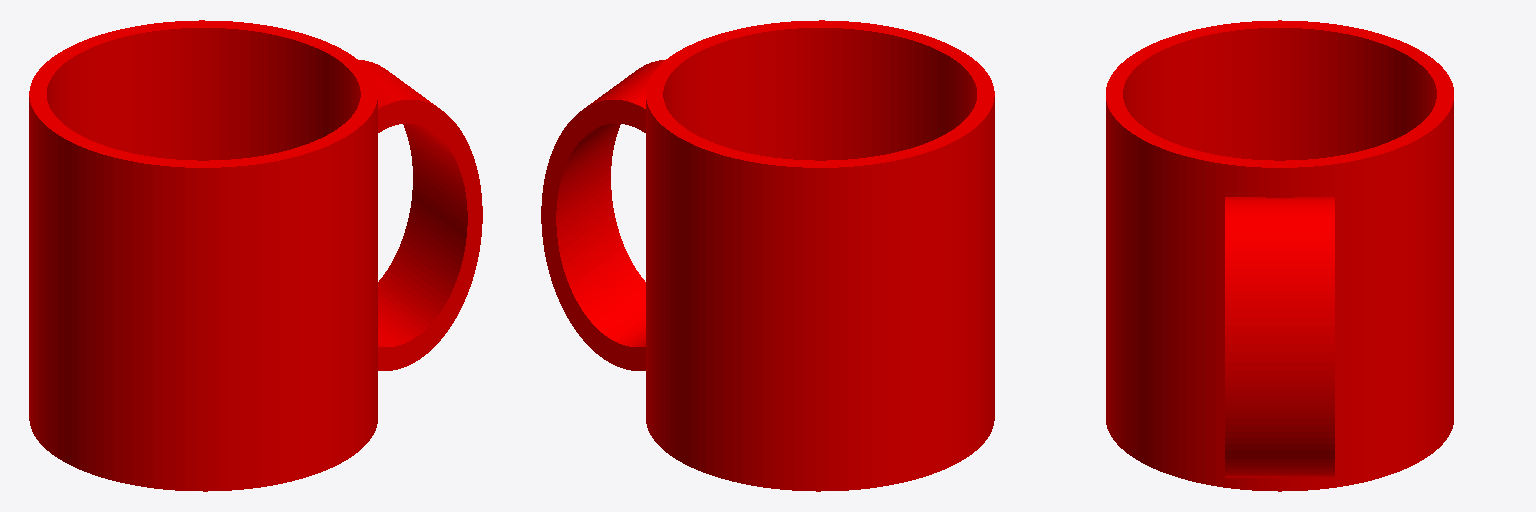
URDF robot description (mug.urdf):
<?xml version="1.0" ?>
<robot name="mug.urdf">
  <link name="baseLink">
    <inertial>
      <origin rpy="0 0 0" xyz="0 0 0"/>
       <mass value=".1"/>
       <inertia ixx="1" ixy="0" ixz="0" iyy="1" iyz="0" izz="1"/>
    </inertial>
    <contact>
      <lateral_friction value="1.0"/>
      <inertia_scaling value="3.0"/>
    </contact>
    <visual>
      <origin rpy="0 0 0" xyz="0 0 0"/>
      <geometry>
        <mesh filename="11.stl" scale="1 1 1" />
      </geometry>
      <material name="red">
        <color rgba="1 0 0 1"/>
      </material>
    </visual>
    <collision>
      <origin rpy="0 0 0" xyz="0 0 0"/>
      <geometry>
        <mesh filename="11_convex.obj" scale="1 1 1" />
      </geometry>
    </collision>
  </link>
</robot>

--- What the picture shows (computed from the rendered views, not written in the file) ---
3 views of the same robot in one strip: view 1: azimuth 30°, elevation 25°; view 2: azimuth 150°, elevation 25°; view 3: azimuth 270°, elevation 25° (orthographic).
Model mug.urdf with 1 links and 0 joints (none), rooted at baseLink, posed all joints at 0.
Visible links, largest first — view 1: baseLink; view 2: baseLink; view 3: baseLink.
Boxes of the visible links, <box> form: baseLink: <box>29,20,482,491</box>; baseLink: <box>541,20,994,491</box>; baseLink: <box>1106,20,1453,491</box>.
Size in the robot's own frame: 0.1338 by 0.1004 by 0.1027 metres.
Meshes: 1 distinct files referenced, 1 mesh visuals loaded (1 binary STL).